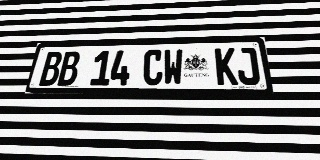1: (90, 50, 113, 86)
4: (109, 50, 131, 85)
B: (57, 51, 81, 86), (39, 52, 63, 86)
C: (143, 49, 163, 85)
J: (235, 47, 261, 85)
K: (215, 48, 238, 85)
W: (163, 49, 183, 85)
